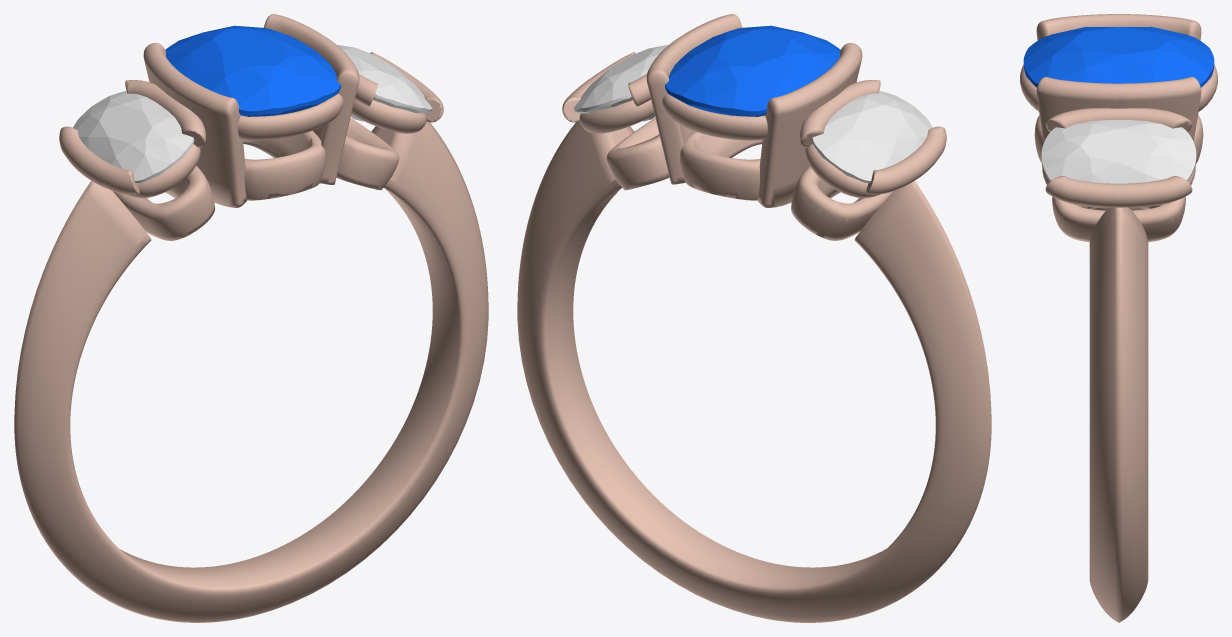
Rendered from bluesapphire-cushion-rosegold-halfmoonbezel-knifeedge-3stone.glb.
3 views of the same model, side by side, from view 1: azimuth 30°, elevation 25°; view 2: azimuth 150°, elevation 25°; view 3: azimuth 270°, elevation 25° (orthographic). The views are drawn at different scales.
Visible parts, largest first — view 1: metal.001, stone, side.001, side; view 2: metal.001, stone, side.001, side; view 3: metal.001, stone, side.
Part boxes in pixels (x1,y1,x2,y2): metal.001: (14,14,488,622); stone: (165,25,340,116); side.001: (73,91,194,182); side: (337,45,432,121); metal.001: (517,14,991,622); stone: (665,25,840,116); side.001: (811,91,932,182); side: (573,45,668,121); metal.001: (1020,14,1217,622); stone: (1023,26,1214,87); side: (1041,120,1196,183).
Bounding box in the file's own units: 20.1 × 23.03 × 7.42.
